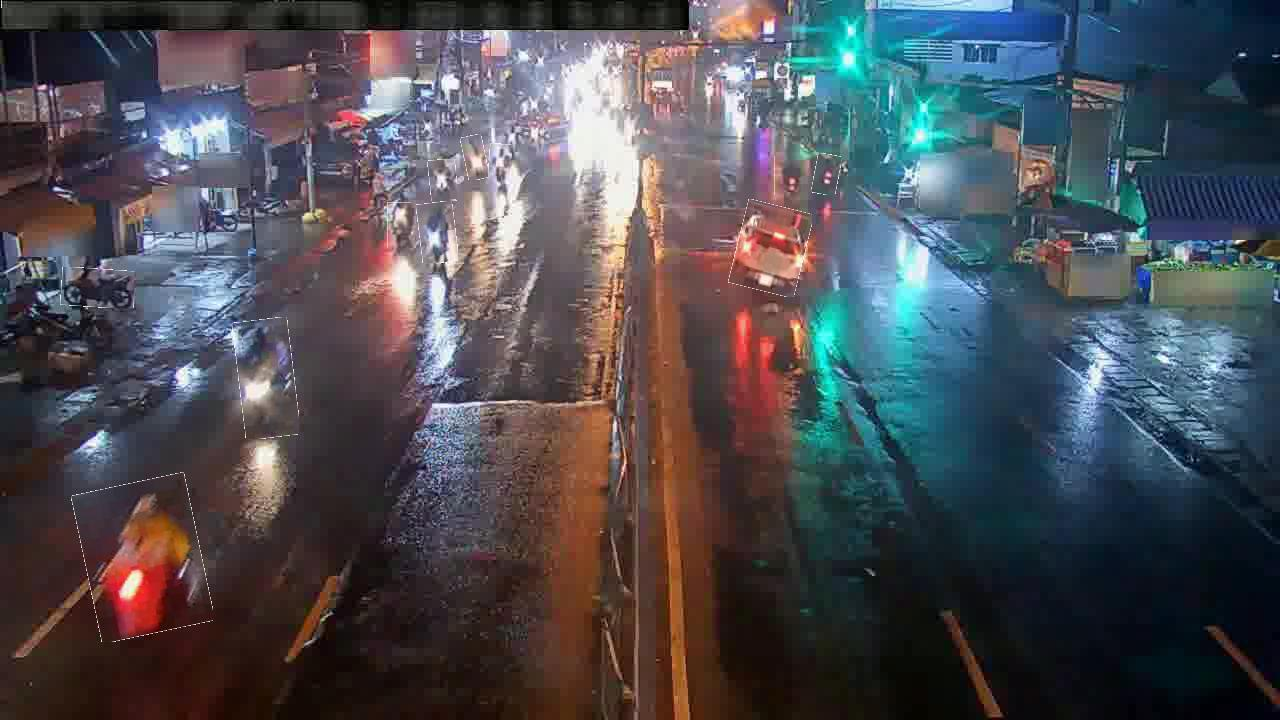container: (733, 203, 809, 295)
motorbike: (78, 477, 207, 638), (236, 319, 297, 439), (61, 268, 135, 308), (418, 202, 458, 264), (774, 156, 807, 196), (428, 160, 457, 202), (813, 154, 841, 196), (387, 202, 412, 249), (462, 135, 487, 181), (488, 144, 512, 183)
